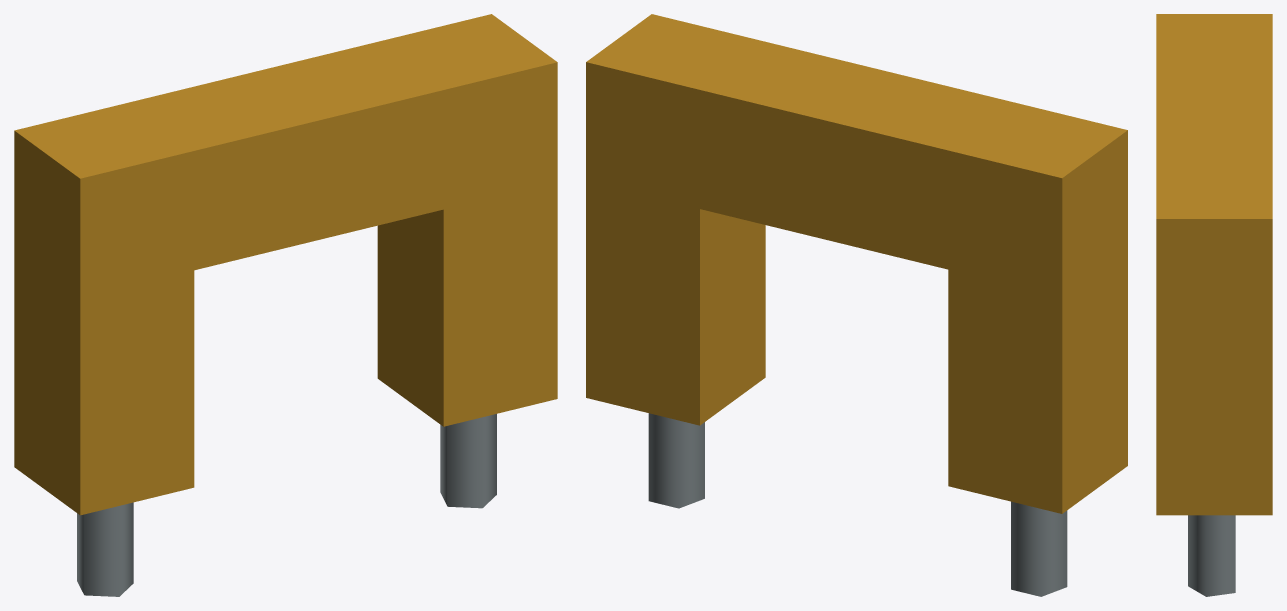
File: jumper_curto.glb
The picture shows the model from 3 angles, left to right: view 1: azimuth 30°, elevation 25°; view 2: azimuth 150°, elevation 25°; view 3: azimuth 270°, elevation 25°; orthographic projection. The views are drawn at different scales.
Parts seen in each view (by area): view 1: jumper_curto_malha; view 2: jumper_curto_malha; view 3: jumper_curto_malha.
Part boxes in pixels (x1,y1,x2,y2): jumper_curto_malha: (14,14,557,596); jumper_curto_malha: (586,14,1127,596); jumper_curto_malha: (1156,14,1272,596).
Bounding box in the file's own units: 0.092 × 0.082 × 0.022.
